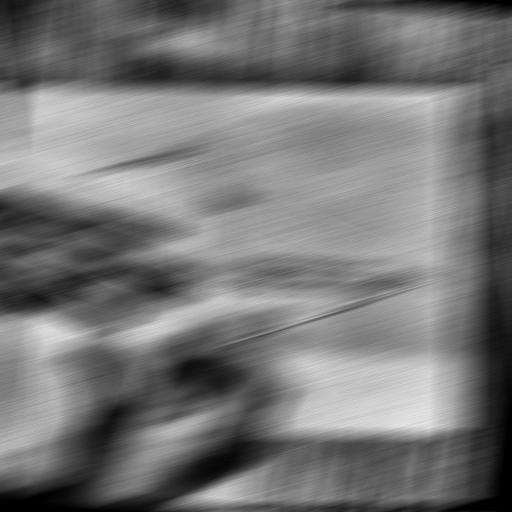boat: (67, 151, 454, 383)
bottom_left: (14, 430, 41, 433)
top_left: (443, 433, 470, 436)
top_right: (439, 87, 471, 93)
